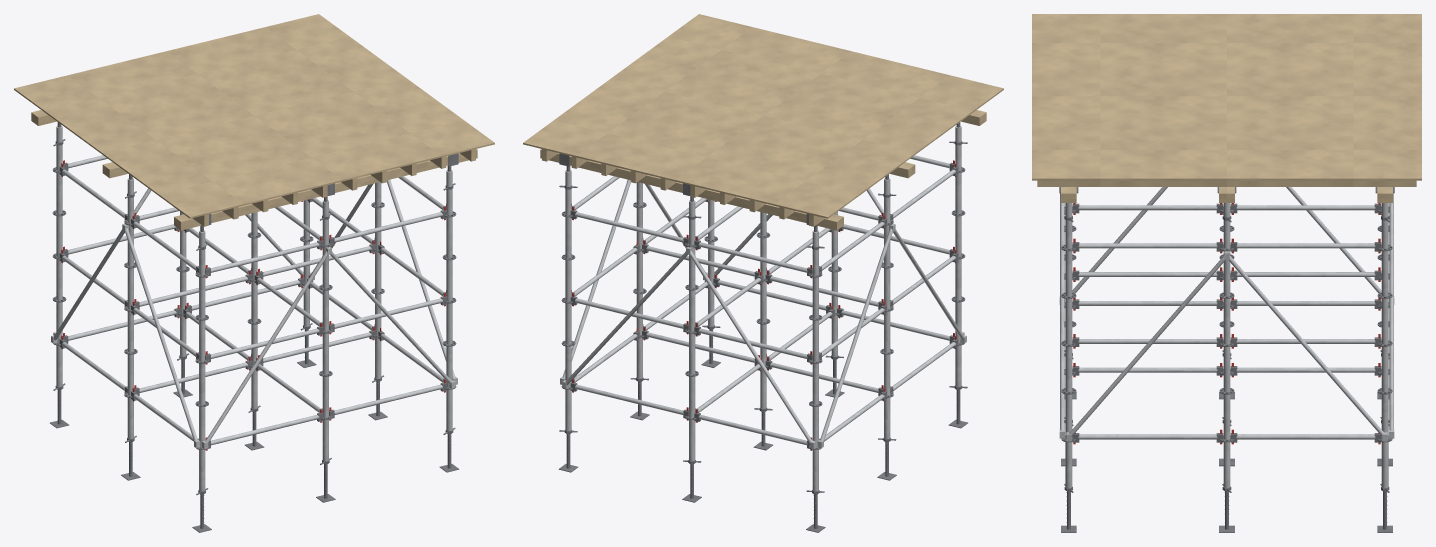
The model's file is allshore-shoring-system.glb.
3 renders of one model, left to right at view 1: azimuth 30°, elevation 25°; view 2: azimuth 150°, elevation 25°; view 3: azimuth 270°, elevation 25°, orthographic. The views are drawn at different scales.
Visible parts, largest first — view 1: Beams&Soffit(context), Ledgers, Verticals, DiagonalBraces, BaseJacks, LedgerHeads, Rosettes, U-HeadJacks; view 2: Beams&Soffit(context), Ledgers, Verticals, DiagonalBraces, BaseJacks, LedgerHeads, Rosettes, U-HeadJacks; view 3: Beams&Soffit(context), Ledgers, Verticals, DiagonalBraces, LedgerHeads, Rosettes, BaseJacks, Wedges.
Boxes of the visible parts, box(x1,y1,x2,y2) form: Beams&Soffit(context): box(14, 14, 494, 230); Ledgers: box(62, 155, 444, 445); Verticals: box(56, 126, 452, 491); DiagonalBraces: box(51, 179, 457, 448); BaseJacks: box(50, 323, 459, 532); LedgerHeads: box(59, 162, 447, 448); Rosettes: box(52, 167, 456, 449); U-HeadJacks: box(53, 122, 458, 250); Beams&Soffit(context): box(523, 14, 1003, 230); Ledgers: box(573, 155, 955, 445); Verticals: box(565, 126, 961, 491); DiagonalBraces: box(560, 179, 966, 448); BaseJacks: box(558, 325, 967, 532); LedgerHeads: box(570, 162, 958, 448); Rosettes: box(561, 167, 965, 449); U-HeadJacks: box(559, 122, 967, 249); Beams&Soffit(context): box(1032, 14, 1421, 202); Ledgers: box(1078, 205, 1375, 439); Verticals: box(1065, 203, 1388, 487); DiagonalBraces: box(1059, 187, 1394, 441); LedgerHeads: box(1072, 203, 1381, 442); Rosettes: box(1061, 208, 1392, 442); BaseJacks: box(1061, 350, 1392, 532); Wedges: box(1073, 203, 1380, 444).
Size of the model in its own units: 3.7 by 3.84 by 3.7.
5 materials, 5 textured.
